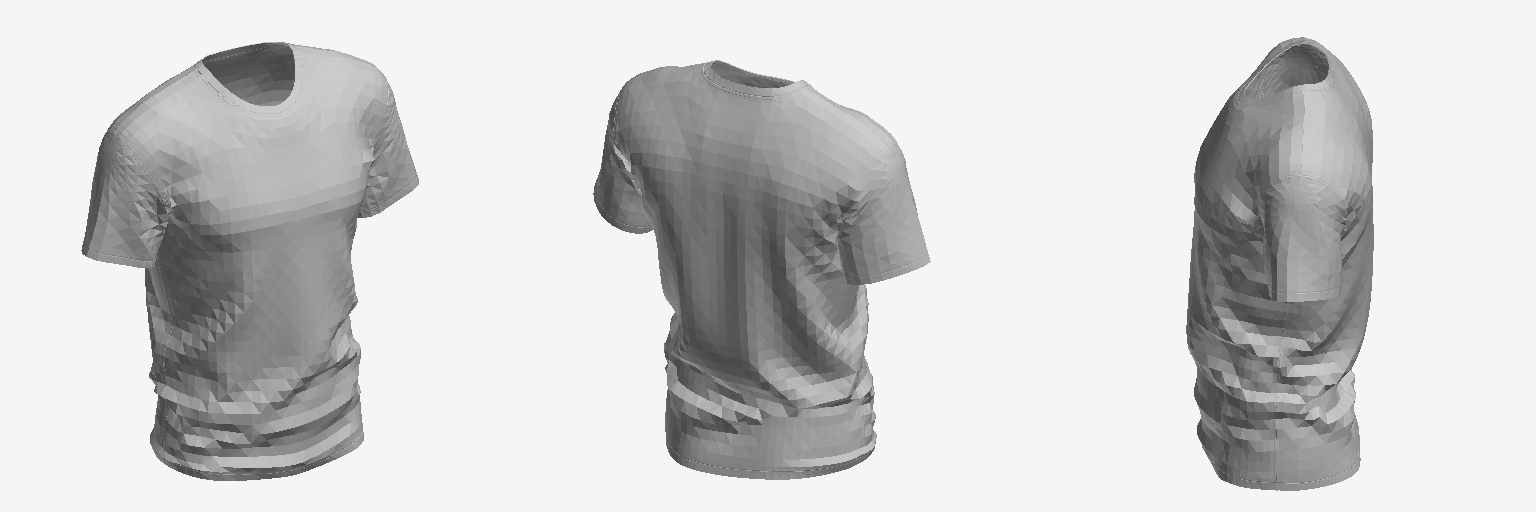
File: male_shirt.obj
3 renders of one model, left to right at view 1: azimuth 30°, elevation 25°; view 2: azimuth 150°, elevation 25°; view 3: azimuth 270°, elevation 25°, orthographic.
Parts seen in each view (by area): view 1: uploads_files_605564_t+shirts; view 2: uploads_files_605564_t+shirts; view 3: uploads_files_605564_t+shirts.
Boxes of the visible parts, x1=… form: uploads_files_605564_t+shirts: x1=81, y1=42, x2=418, y2=480; uploads_files_605564_t+shirts: x1=593, y1=60, x2=930, y2=479; uploads_files_605564_t+shirts: x1=1186, y1=37, x2=1373, y2=490.
Bounding box in the file's own units: 3.72 × 4.13 × 1.82.